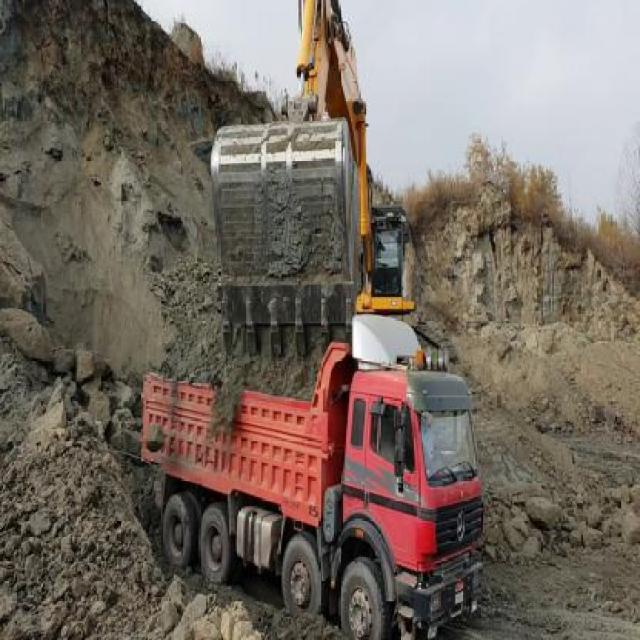Dump Truck: (140, 312, 486, 636)
Excavator: (208, 1, 458, 368)
